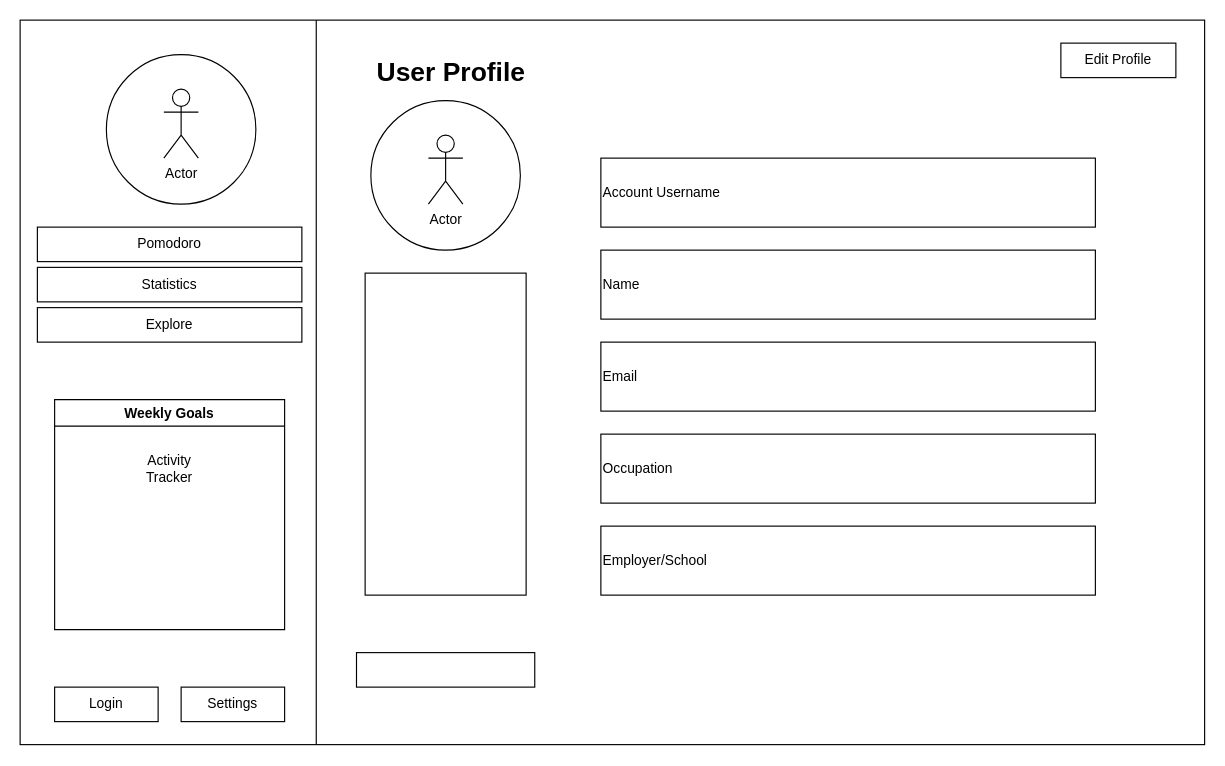
The diagram is 1225 pixels wide and 766 high, and some of its shapes have lost their labels. Here are the shapes that lost their labels. From the top down, the centre of each, then its label:
(x=445, y=433): Description
(x=445, y=669): Toggle Visibility
